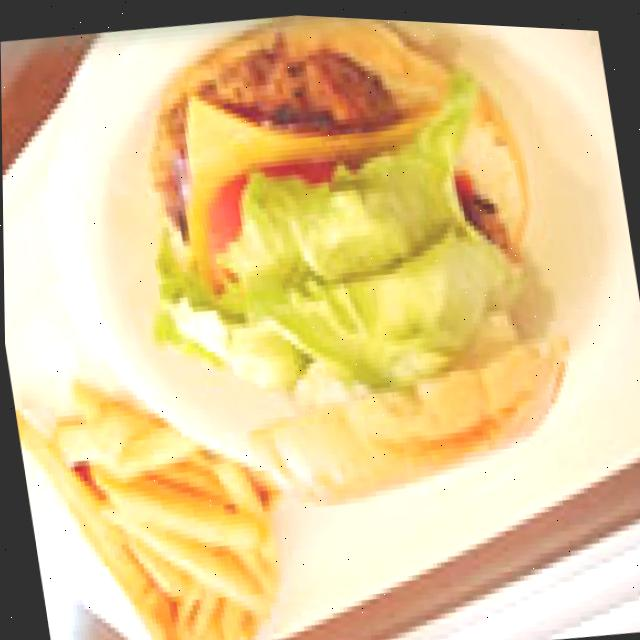汉堡快餐: (131, 5, 596, 550)
炸货点心: (11, 354, 310, 640)
